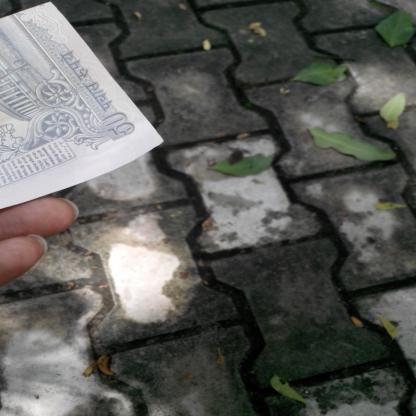Old50Back: (0, 0, 163, 210)
